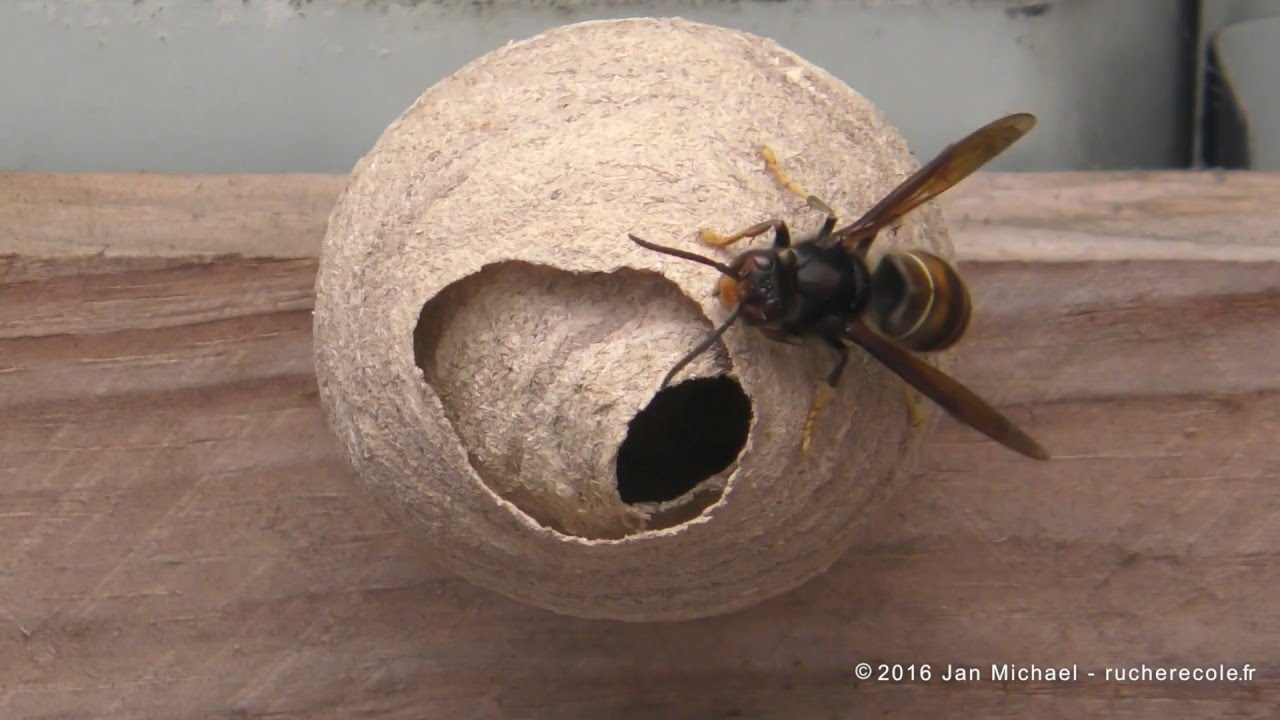hornet: (668, 122, 1070, 449)
